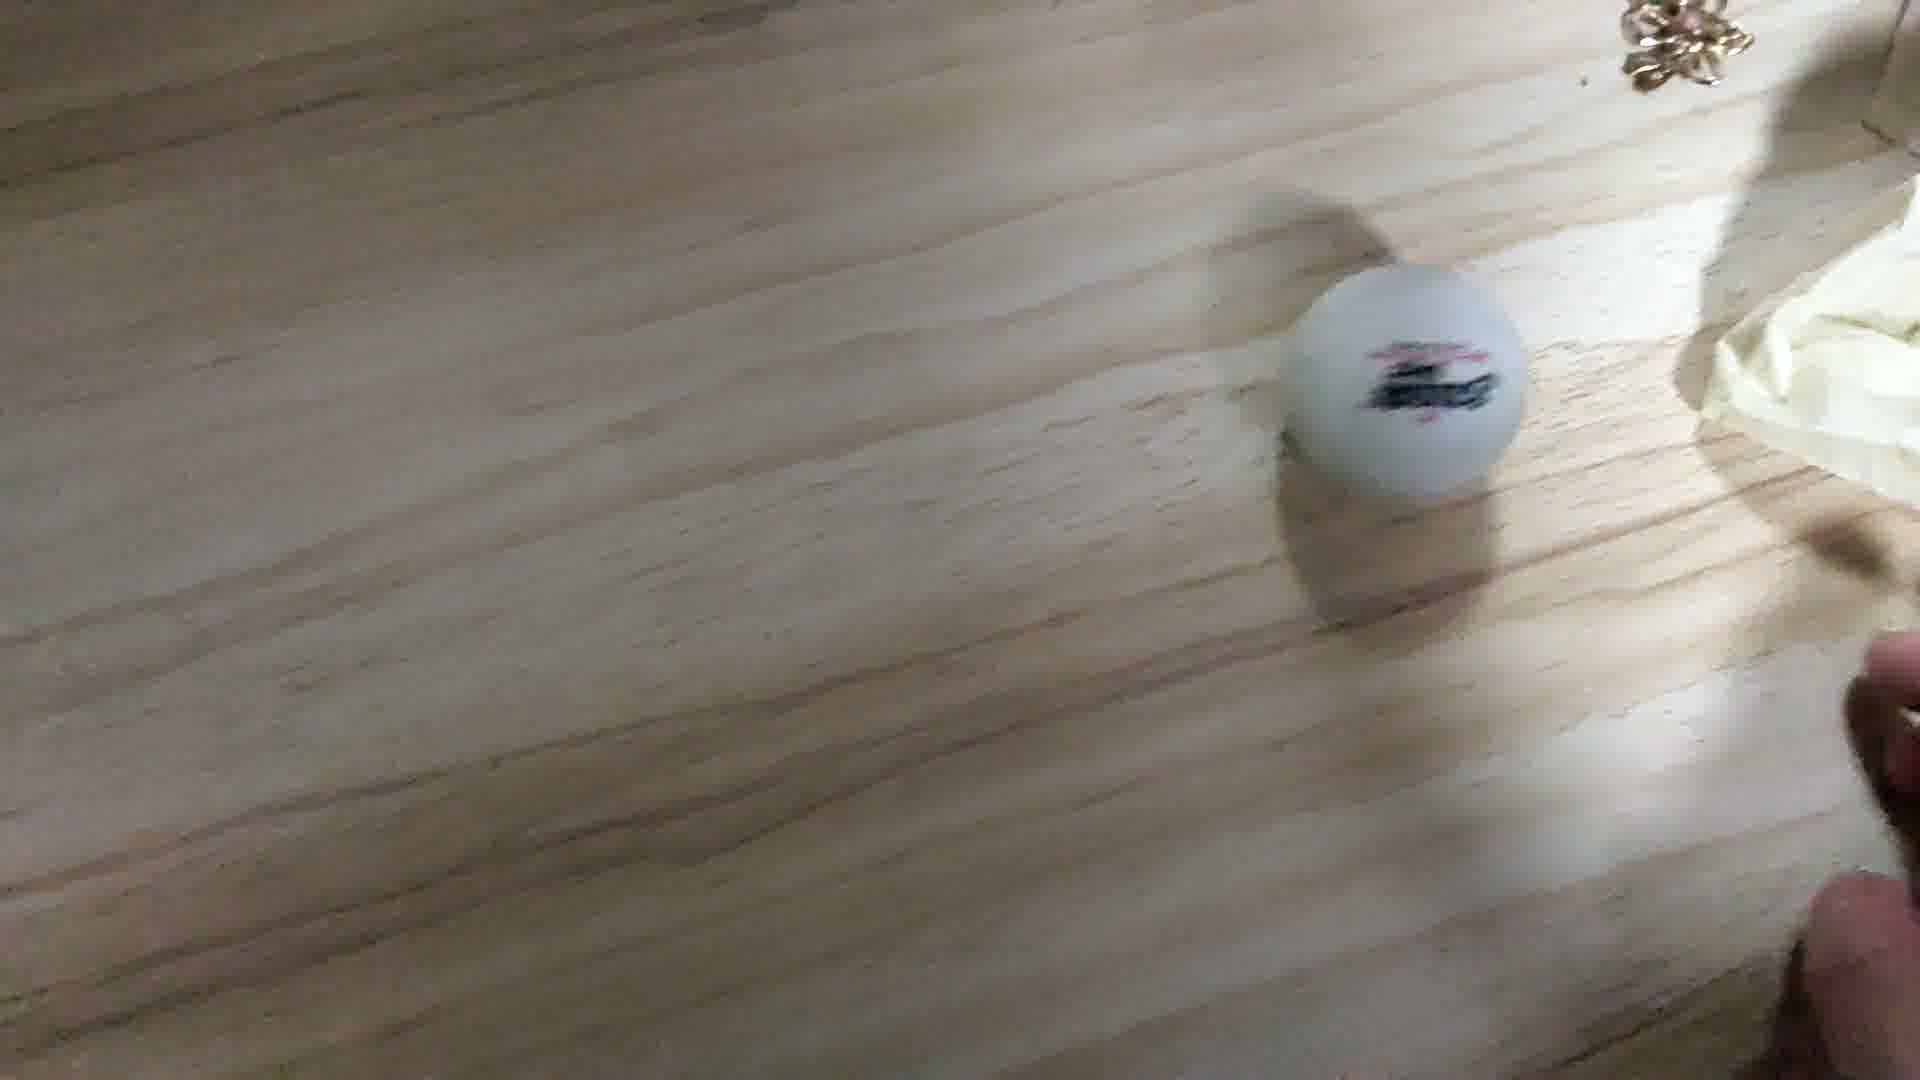Ball: (1275, 258, 1527, 508)
